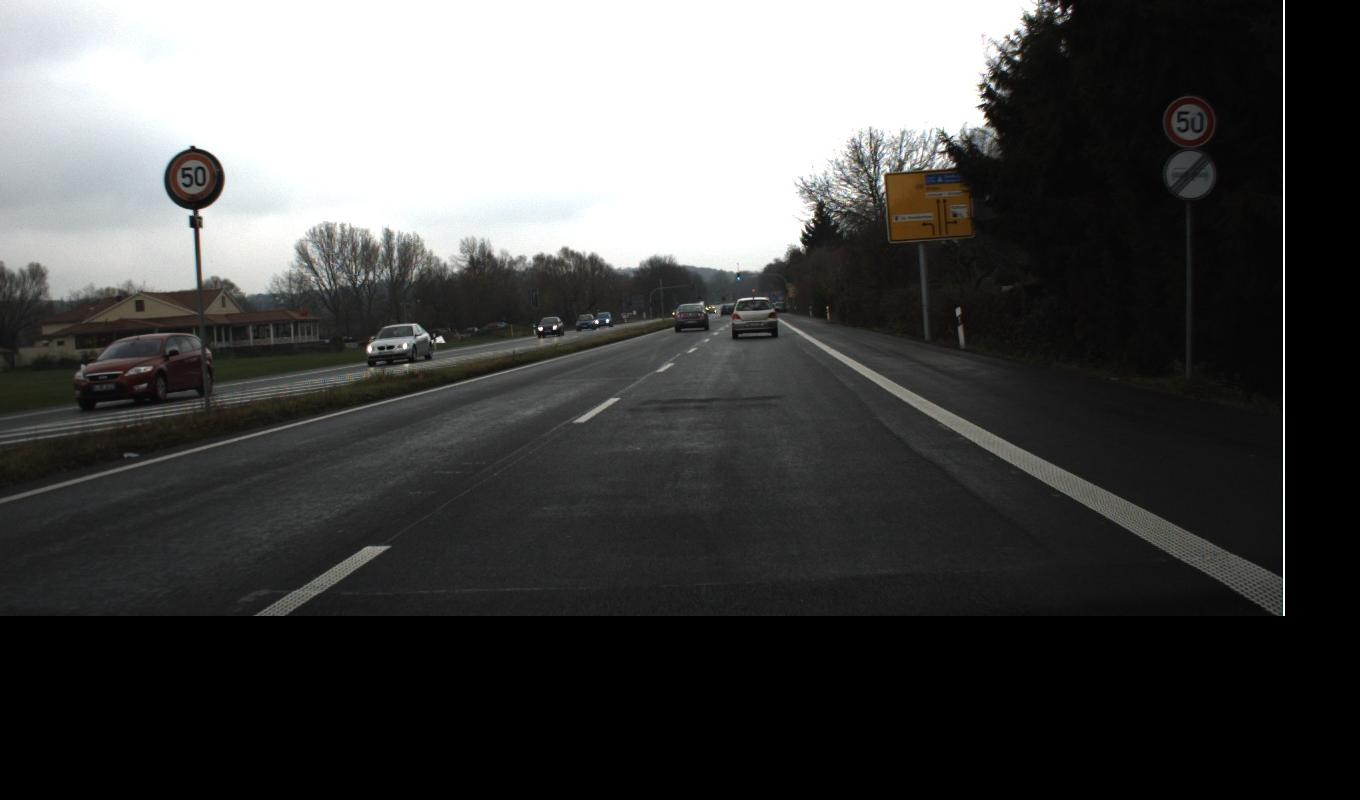restriction ends (overtaking): (168, 95, 1216, 202)
